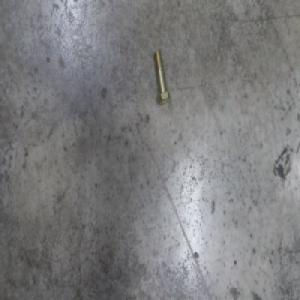Bolt: (154, 47, 171, 104)
